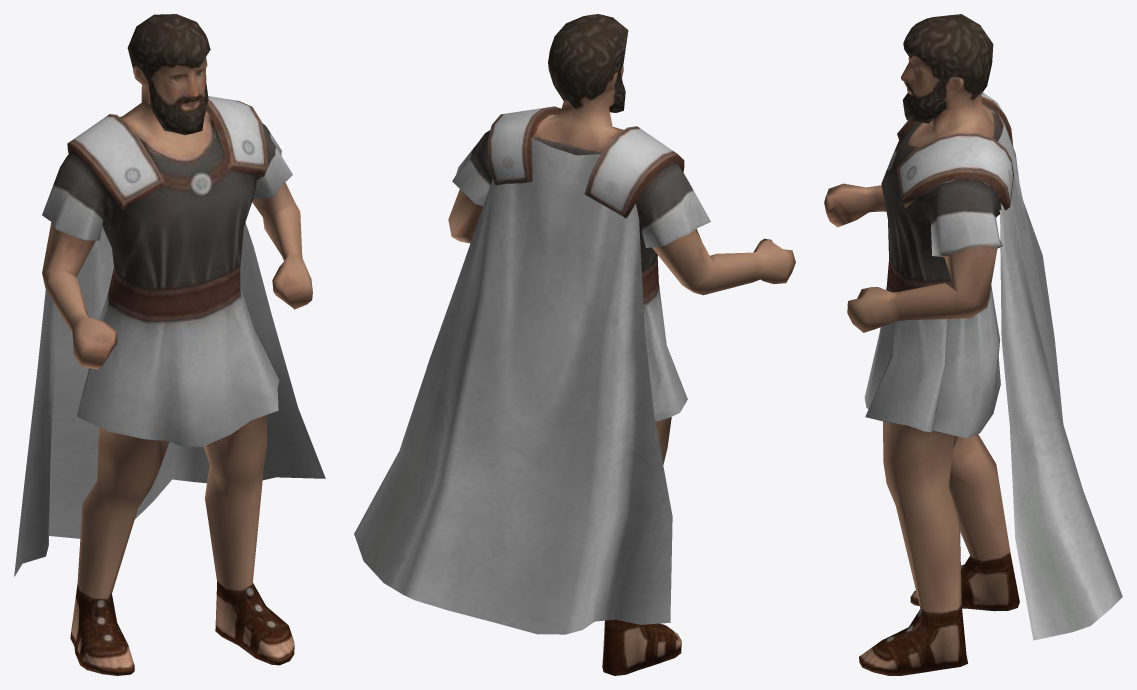
The model's file is body-base.glb.
3 renders of one model, left to right at view 1: azimuth 30°, elevation 25°; view 2: azimuth 150°, elevation 25°; view 3: azimuth 270°, elevation 25°, orthographic. The views are drawn at different scales.
Bounding box in the file's own units: 1.19 × 2.06 × 0.9077.
Materials: 1 (1 with a texture image).
